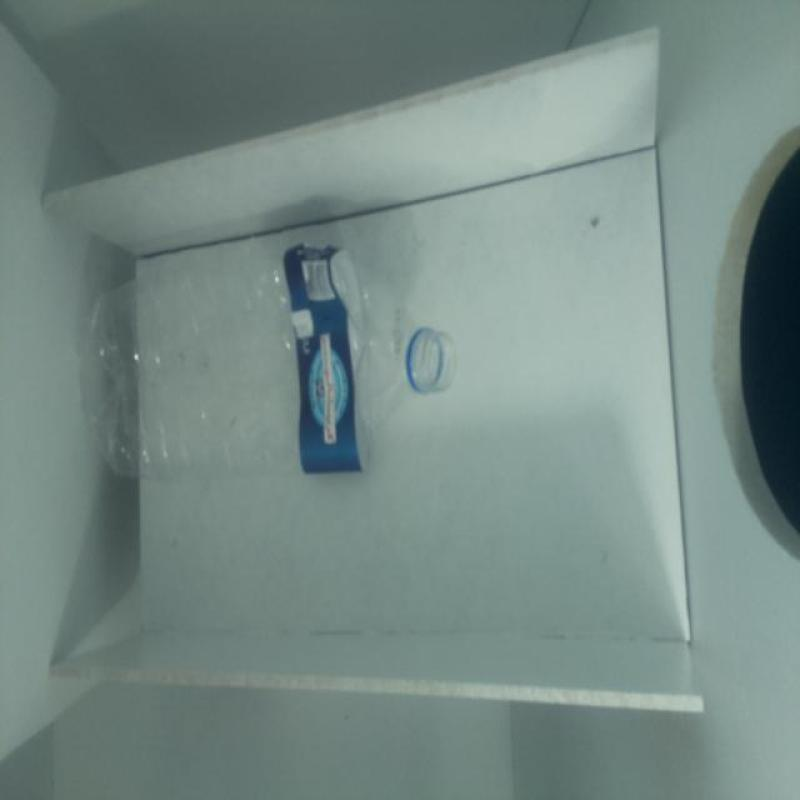botella: (88, 240, 458, 480)
